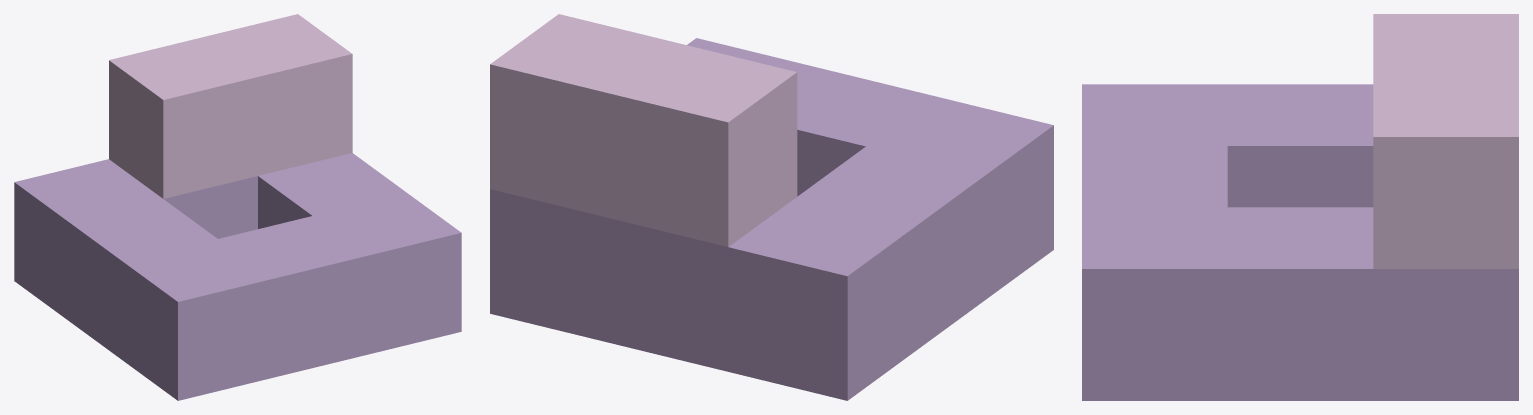
File: anillo_amatista_01.glb
The picture shows the model from 3 angles, left to right: view 1: azimuth 30°, elevation 25°; view 2: azimuth 150°, elevation 25°; view 3: azimuth 270°, elevation 25°; orthographic projection. The views are drawn at different scales.
Visible parts, largest first — view 1: anillo_amatista; view 2: anillo_amatista; view 3: anillo_amatista.
Boxes of the visible parts, x1,y1,x2,y2 form: anillo_amatista: (14,14,461,400); anillo_amatista: (490,14,1053,400); anillo_amatista: (1082,14,1518,400).
Bounding box in the file's own units: 0.25 × 0.1667 × 0.25.
